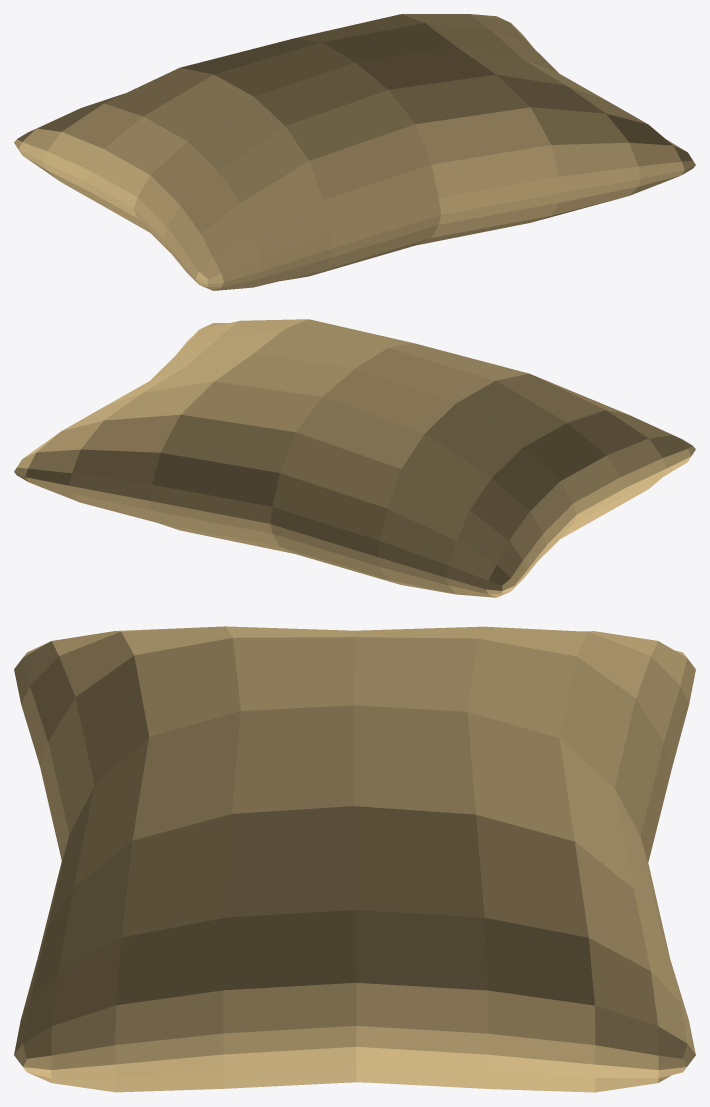
Rendered from Pillow 6.fbx.
The picture shows the model from 3 angles, top to bottom: view 1: azimuth 30°, elevation 25°; view 2: azimuth 150°, elevation 25°; view 3: azimuth 270°, elevation 25°; orthographic projection. The views are drawn at different scales.
Visible parts, largest first — view 1: Node 0; view 2: Node 0; view 3: Node 0.
Boxes of the visible parts, x1,y1,x2,y2 form: Node 0: (14,14,695,290); Node 0: (14,319,695,597); Node 0: (14,626,695,1092).
Bounding box in the file's own units: 0.4866 × 0.2097 × 0.7012.
